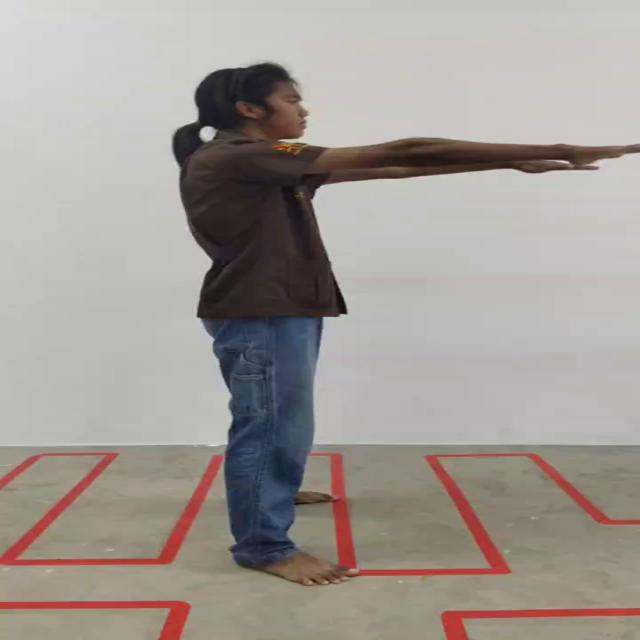stand: (175, 61, 640, 589)
